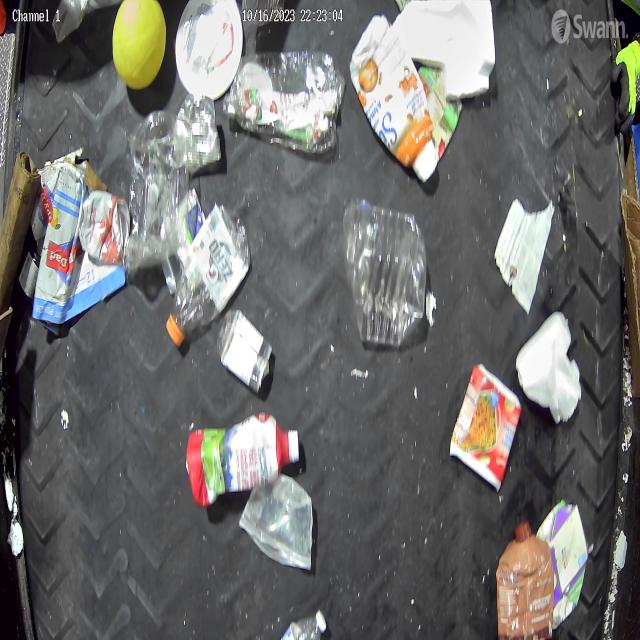can: (78, 190, 131, 264), (177, 92, 222, 178)
non_white_jug: (350, 14, 439, 184)
plastic_bottle: (168, 202, 252, 344), (264, 609, 329, 640)
